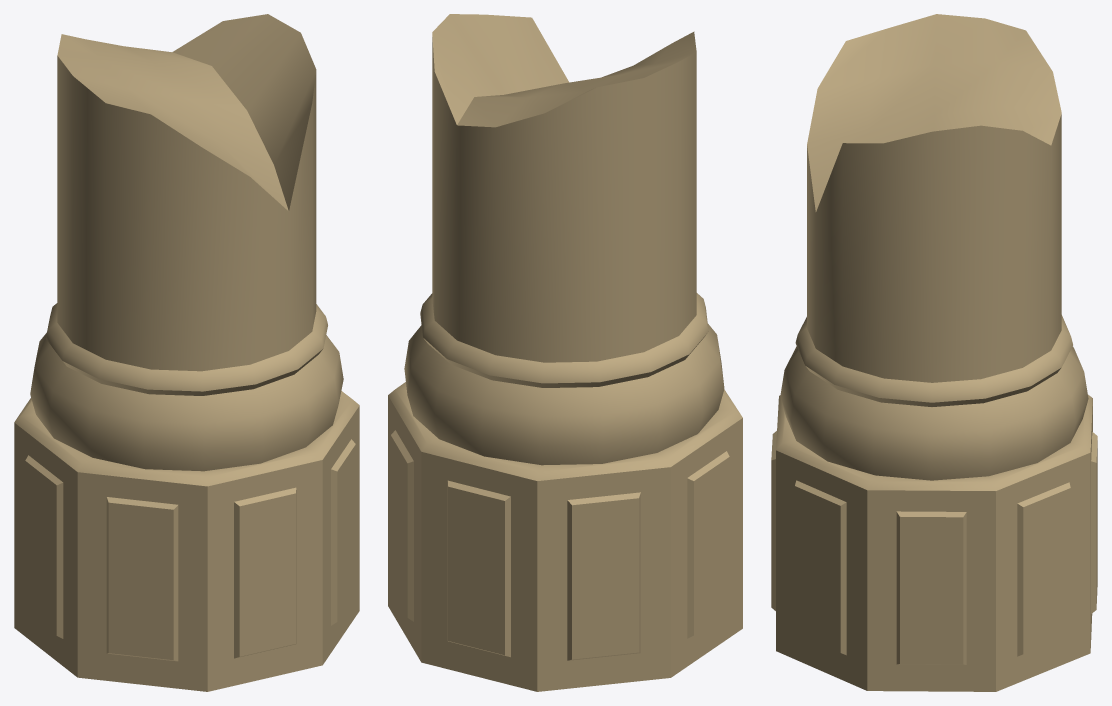
Rendered from pillar_02.fbx.
3 views of the same model, side by side, from view 1: azimuth 30°, elevation 25°; view 2: azimuth 150°, elevation 25°; view 3: azimuth 270°, elevation 25° (orthographic). The views are drawn at different scales.
Parts seen in each view (by area): view 1: pillar_02; view 2: pillar_02; view 3: pillar_02.
Boxes of the visible parts, x1,y1,x2,y2 form: pillar_02: [14, 14, 359, 691]; pillar_02: [388, 14, 742, 691]; pillar_02: [771, 14, 1097, 691].
Size of the model in its own units: 196 by 367 by 195.
